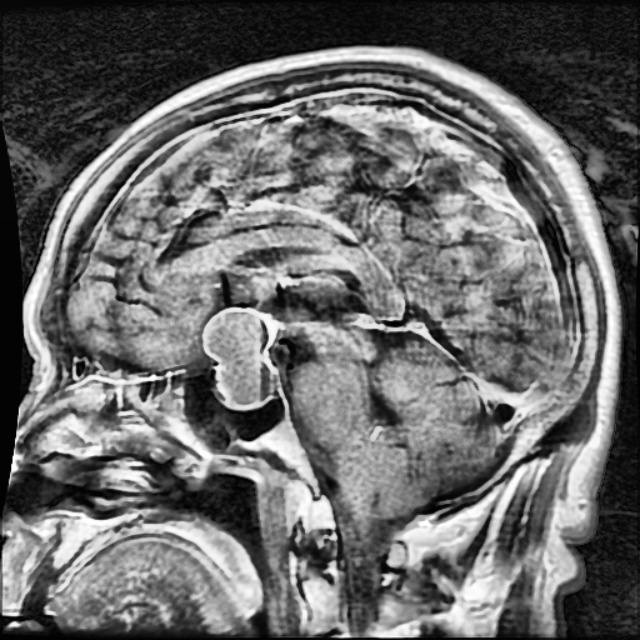Pituitary: (202, 304, 278, 407)
